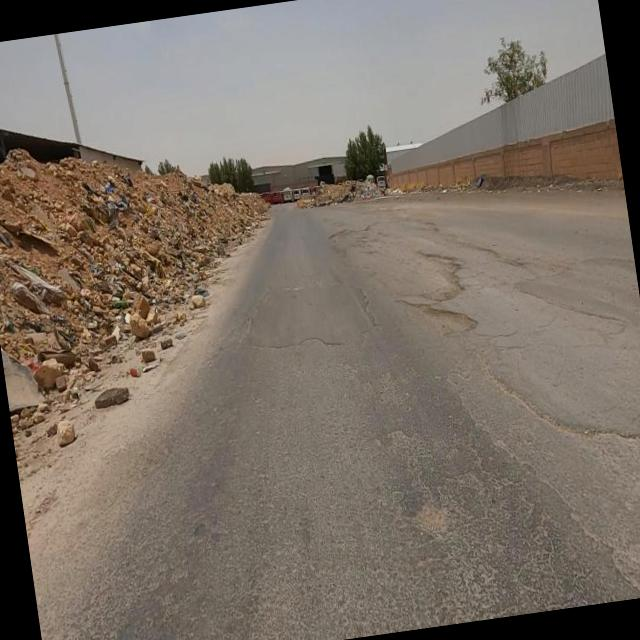debris: (66, 235, 220, 391), (0, 199, 106, 408), (67, 147, 163, 276), (152, 155, 224, 253), (355, 155, 431, 236), (450, 140, 518, 214), (334, 160, 403, 223), (425, 150, 475, 213)
